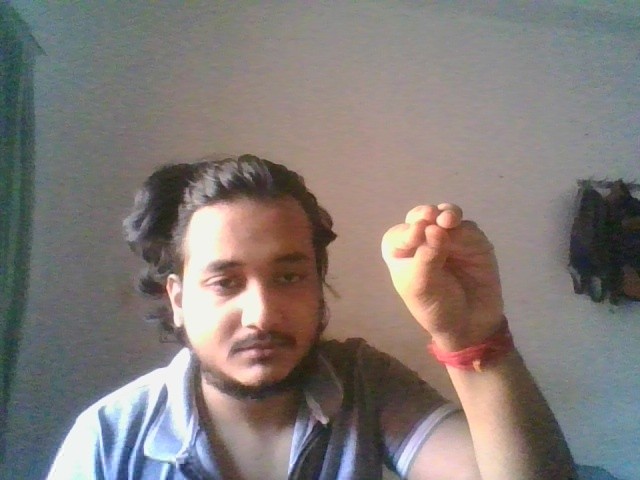Mouth: (379, 202, 504, 328)
